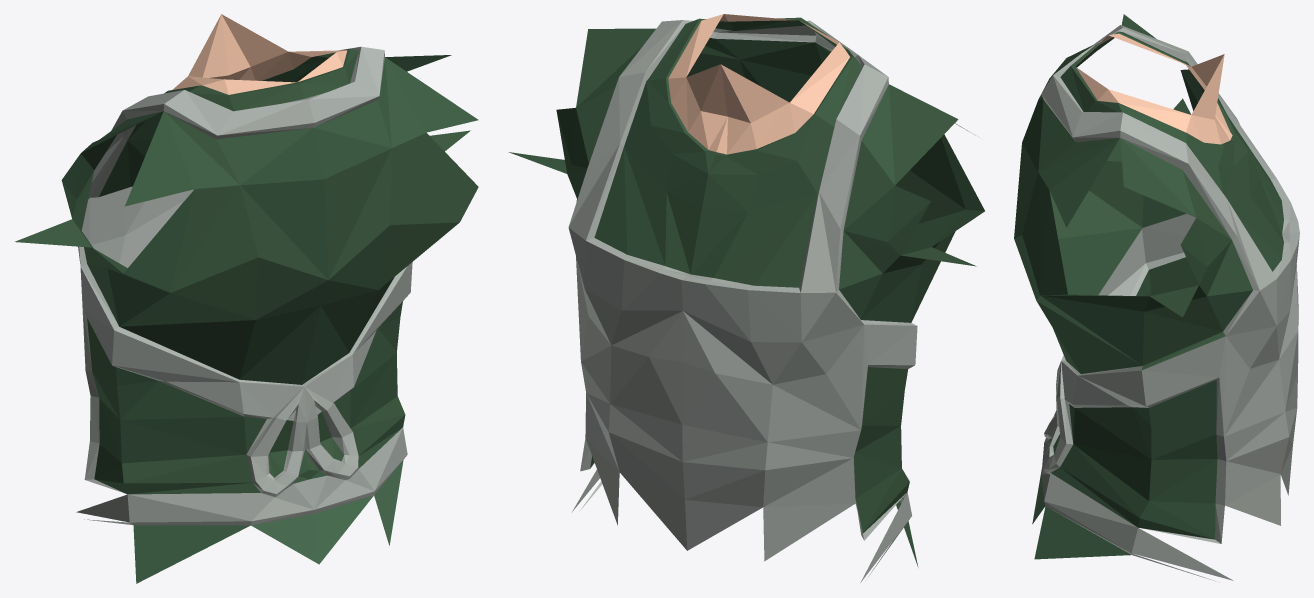
File: ShopKeeper_01_Torso_0_01_A.obj
3 views of the same model, side by side, from view 1: azimuth 30°, elevation 25°; view 2: azimuth 150°, elevation 25°; view 3: azimuth 270°, elevation 25° (orthographic). The views are drawn at different scales.
Parts seen in each view (by area): view 1: ShopKeeper_01_Torso_0_01_A; view 2: ShopKeeper_01_Torso_0_01_A; view 3: ShopKeeper_01_Torso_0_01_A.
Boxes of the visible parts, left/top/right/bottom form: ShopKeeper_01_Torso_0_01_A: left=15, top=14, right=478, bottom=583; ShopKeeper_01_Torso_0_01_A: left=508, top=14, right=984, bottom=582; ShopKeeper_01_Torso_0_01_A: left=1014, top=14, right=1299, bottom=581.
Bounding box in the file's own units: 0.5658 × 0.5874 × 0.3117.
1 material, 1 textured.
